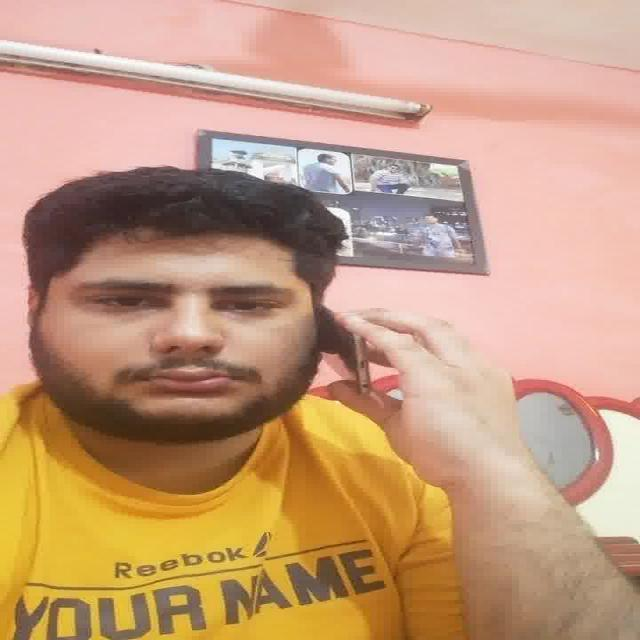Phone: (320, 310, 374, 391)
